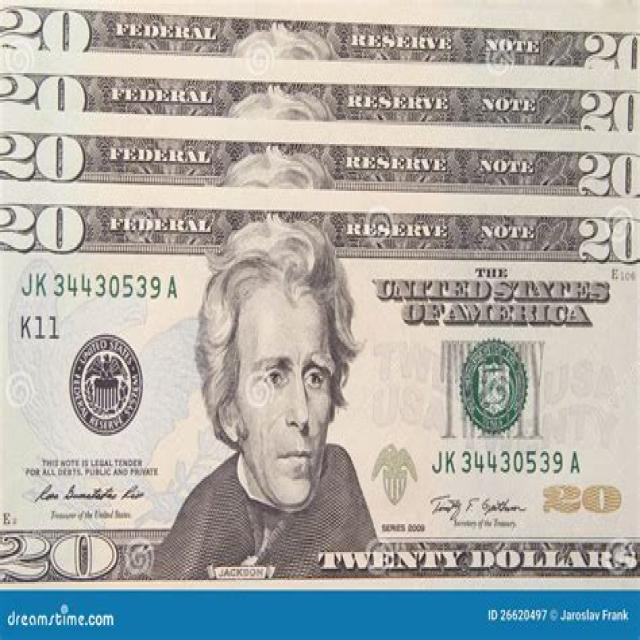Twenty: (0, 202, 640, 590)
